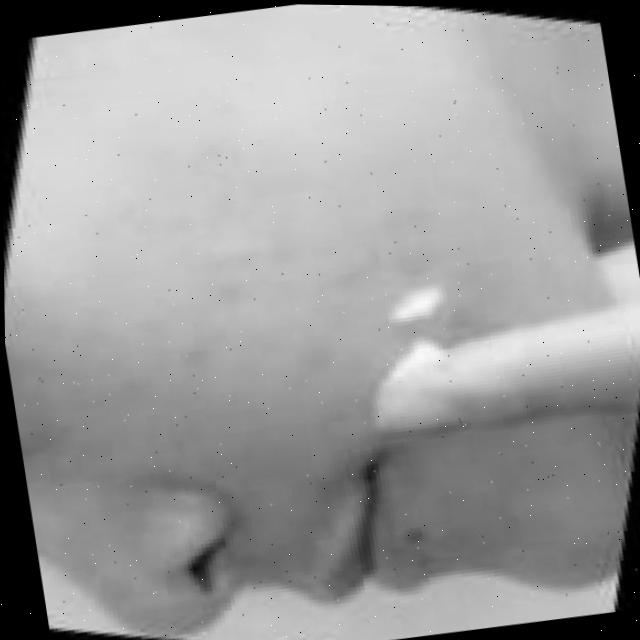Acne: (384, 277, 457, 344)
